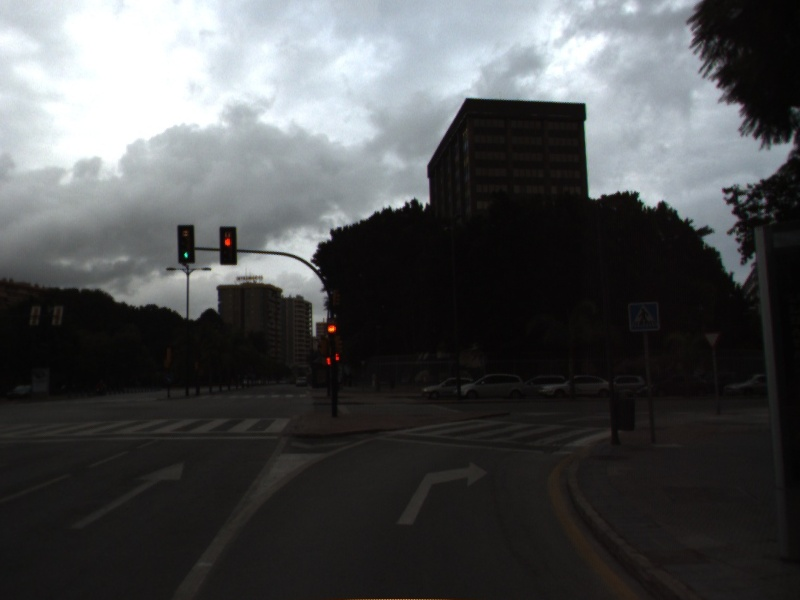RIGHT: (392, 457, 494, 529)
STRAIGHT: (66, 457, 190, 531)
